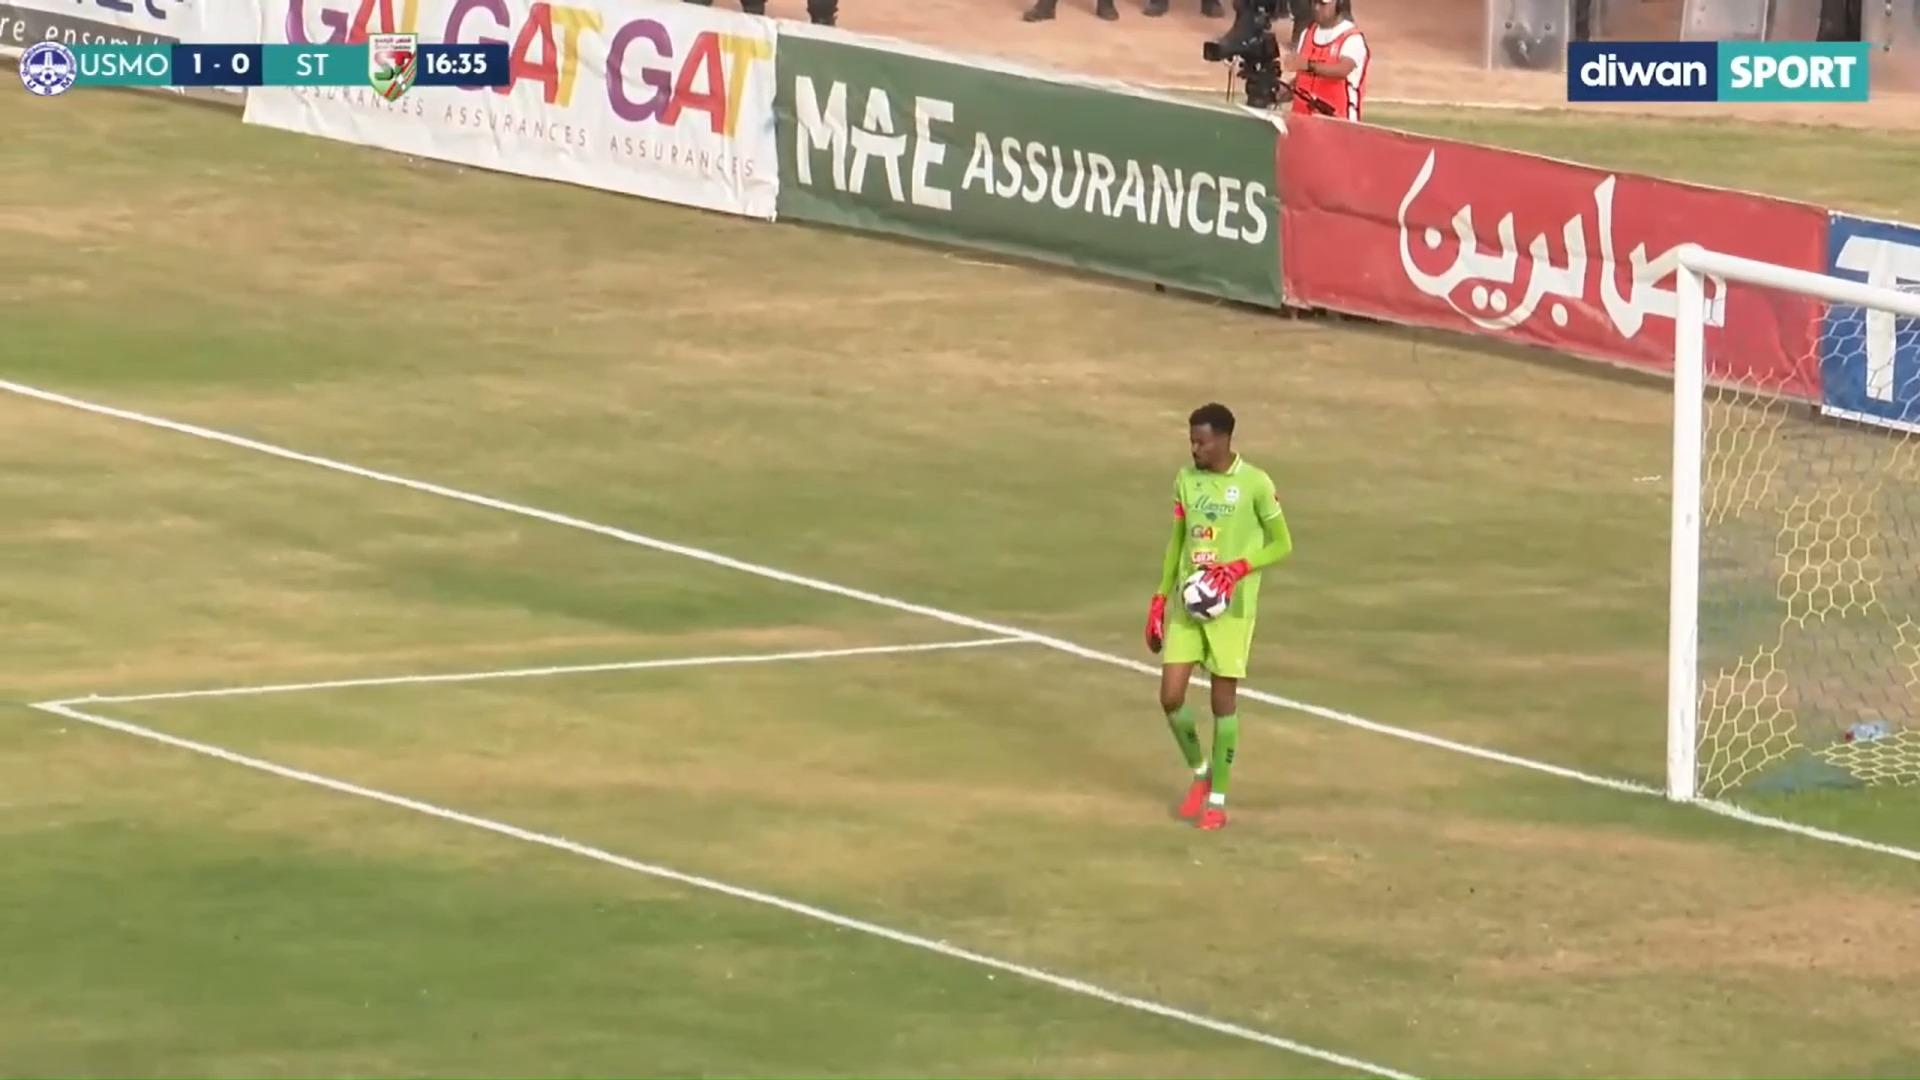ball: (1163, 535, 1253, 642)
goalkeeper: (1105, 371, 1321, 843)
